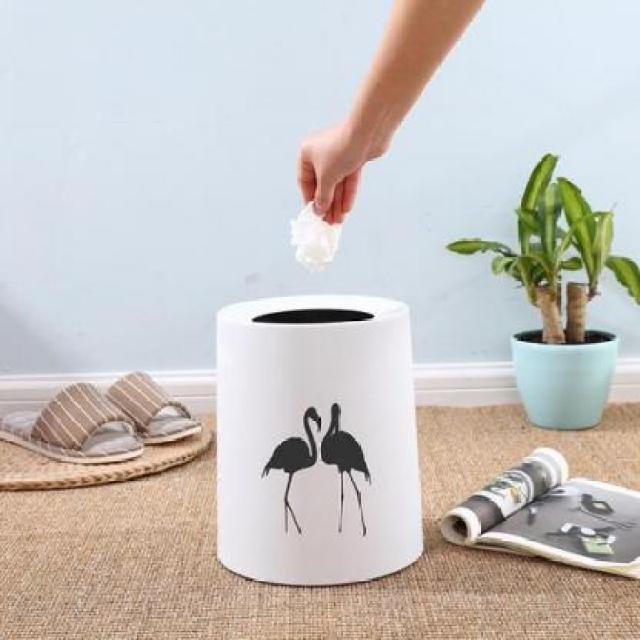dustbin: (211, 292, 427, 590)
